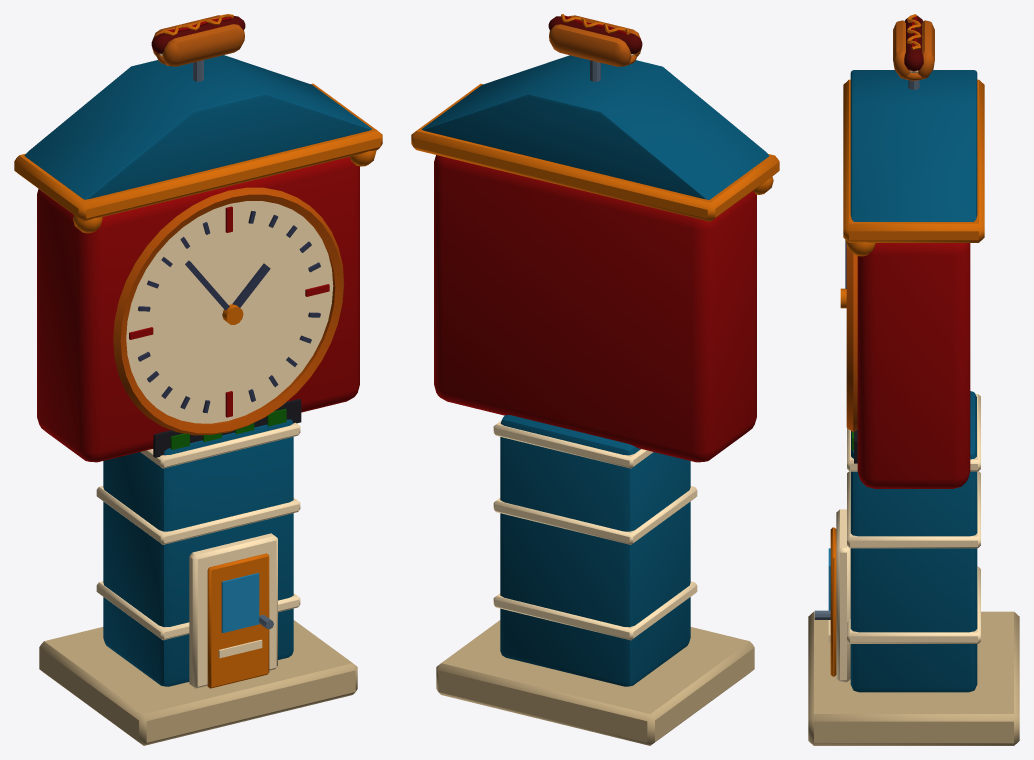
File: ClockBoard.obj
3 renders of one model, left to right at view 1: azimuth 30°, elevation 25°; view 2: azimuth 150°, elevation 25°; view 3: azimuth 270°, elevation 25°, orthographic.
Visible parts, largest first — view 1: ClockBoard; view 2: ClockBoard; view 3: ClockBoard.
Boxes of the visible parts, <box> form: ClockBoard: <box>14,14,382,745</box>; ClockBoard: <box>411,14,779,745</box>; ClockBoard: <box>808,14,1019,745</box>.
Bounding box in the file's own units: 5 × 10.39 × 3.
